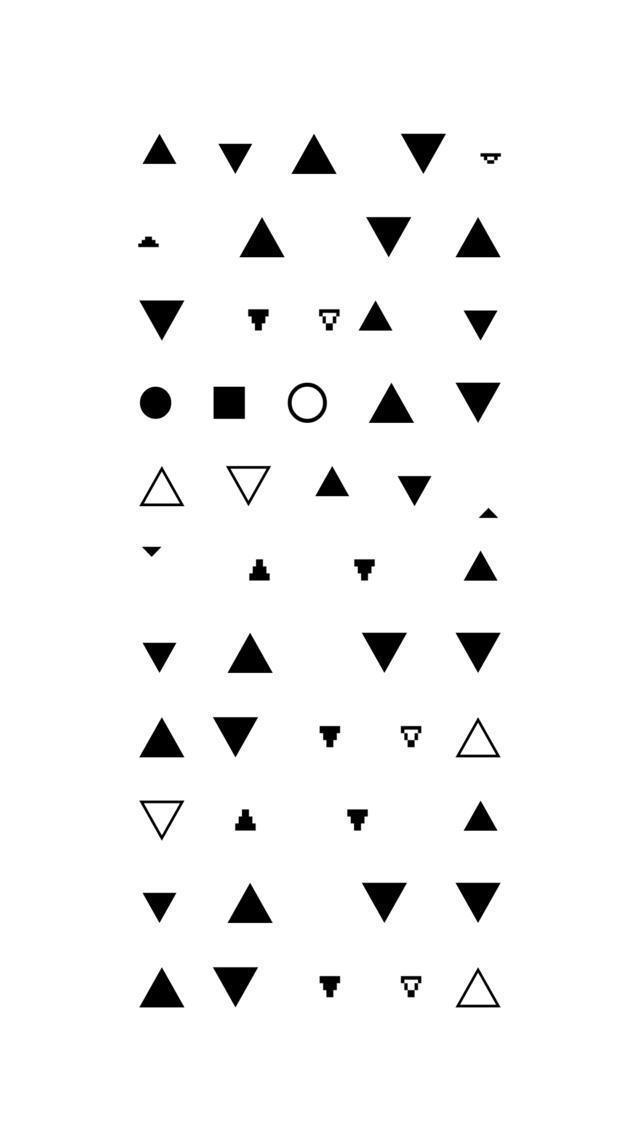ASCII: (134, 286, 188, 348), (453, 368, 506, 430), (362, 205, 414, 267), (398, 120, 450, 182), (452, 622, 507, 678), (366, 378, 418, 436), (136, 963, 188, 1021), (453, 212, 505, 268), (358, 620, 412, 673), (358, 872, 411, 926), (226, 876, 277, 932), (236, 212, 287, 268), (289, 129, 340, 185), (284, 376, 332, 434), (452, 873, 503, 927), (210, 958, 264, 1008), (226, 630, 276, 684), (136, 792, 187, 844), (454, 966, 506, 1017), (455, 716, 503, 770), (212, 707, 260, 758), (224, 458, 274, 506), (137, 718, 186, 766), (137, 466, 184, 516), (214, 128, 256, 181), (138, 628, 180, 680), (138, 129, 180, 180), (138, 879, 180, 930), (211, 376, 250, 429), (461, 796, 502, 844), (461, 298, 502, 344), (136, 380, 174, 429), (358, 296, 396, 344), (312, 462, 352, 504), (462, 546, 502, 588), (394, 468, 435, 508), (245, 546, 278, 592), (314, 710, 346, 756), (396, 964, 426, 1010), (315, 961, 345, 1007), (230, 795, 260, 841), (344, 793, 374, 838), (244, 299, 274, 341), (396, 714, 426, 756), (134, 222, 165, 262), (476, 138, 506, 179), (315, 299, 344, 340), (352, 544, 379, 588), (138, 532, 166, 570), (474, 496, 502, 532)
